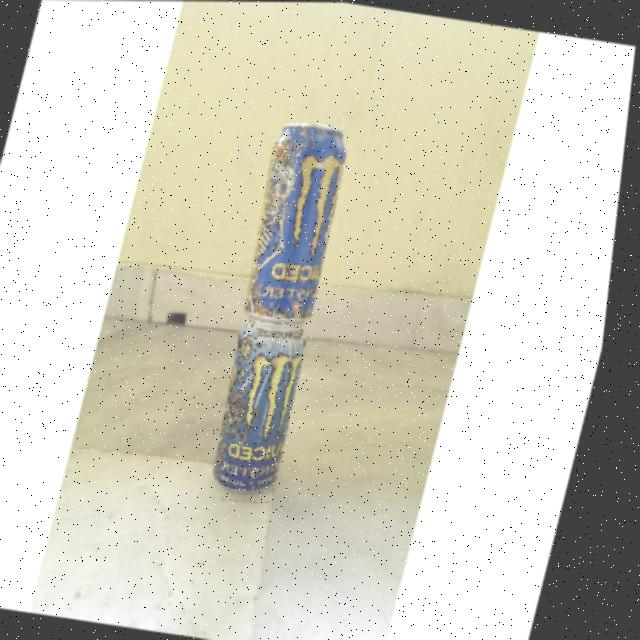Monster Aussie Lemonade: (211, 317, 322, 497)
Monster Mango Loco: (239, 120, 365, 322)
